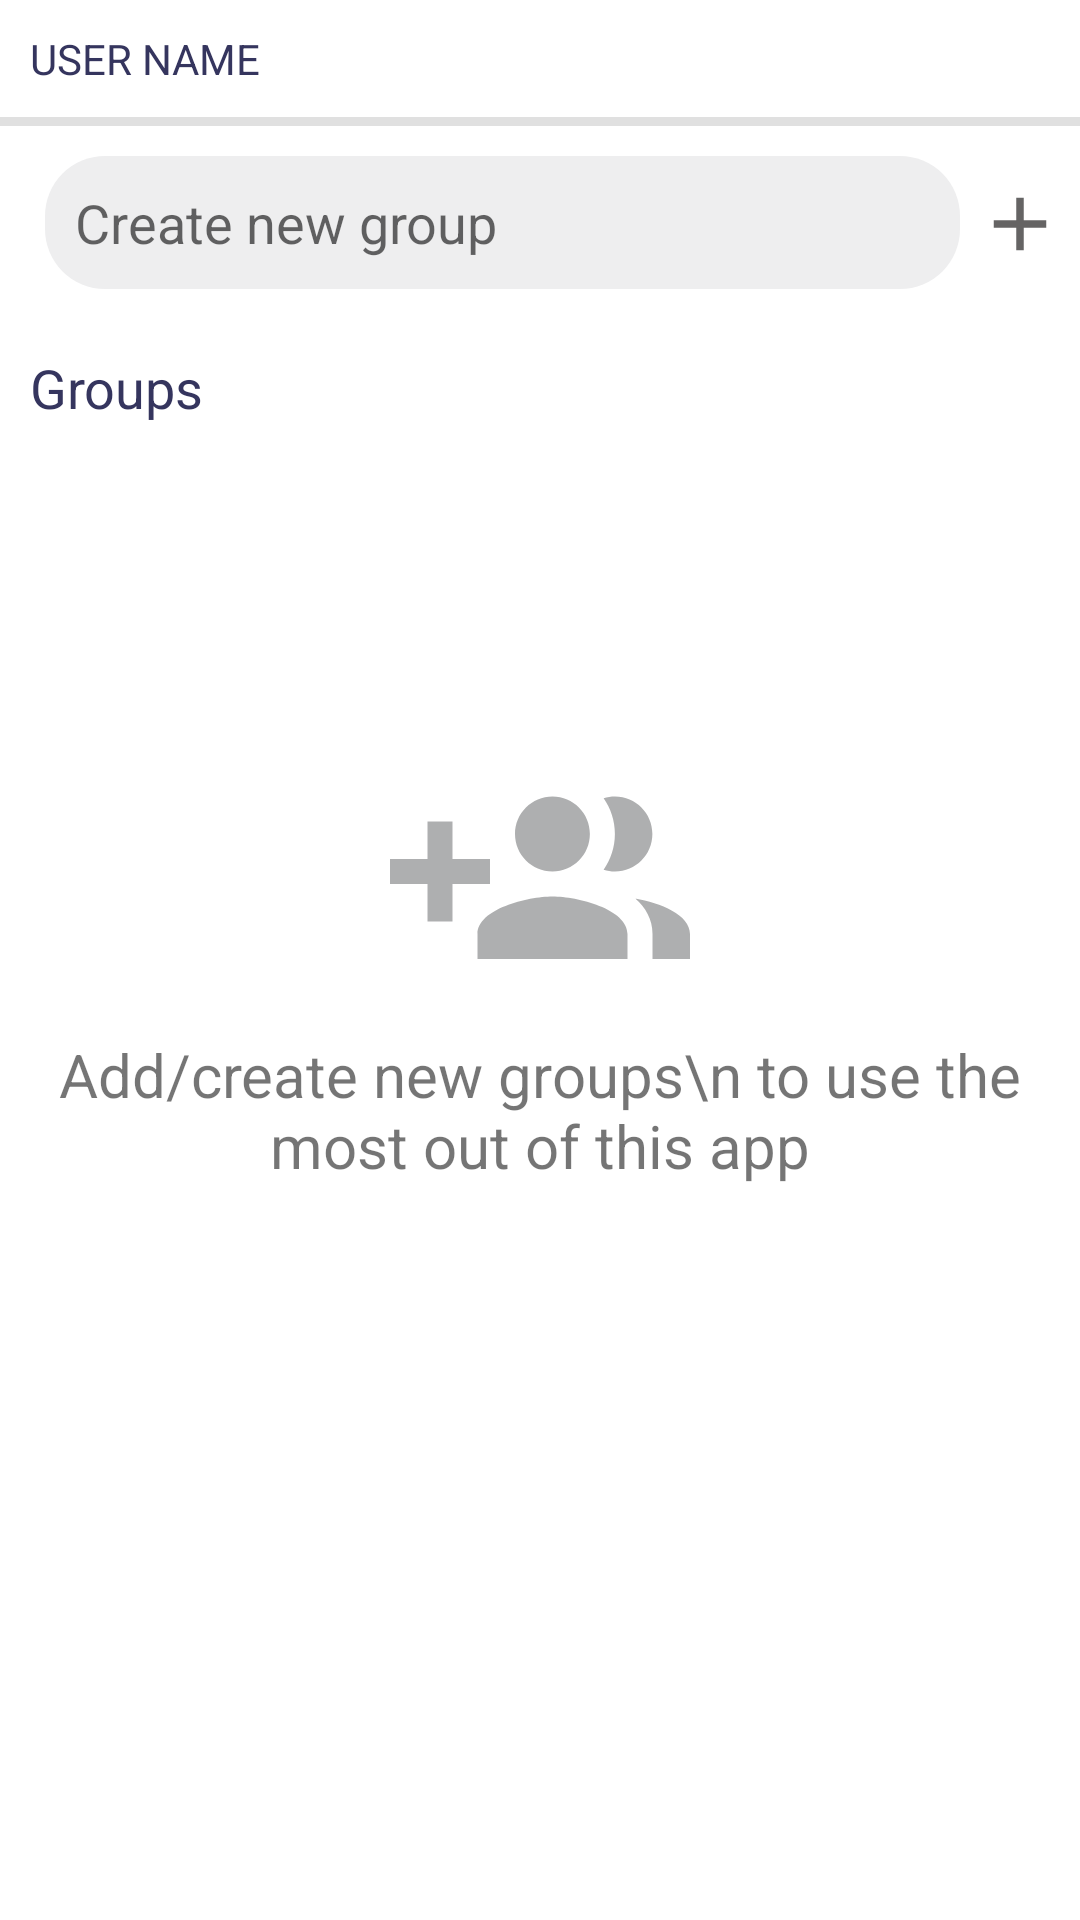

Named icons in this screenshot (1080*1920) and their bounding boxes, (x1, y1, x2, y2):
add: (993, 197, 1047, 251)
add group: (390, 796, 690, 959)
